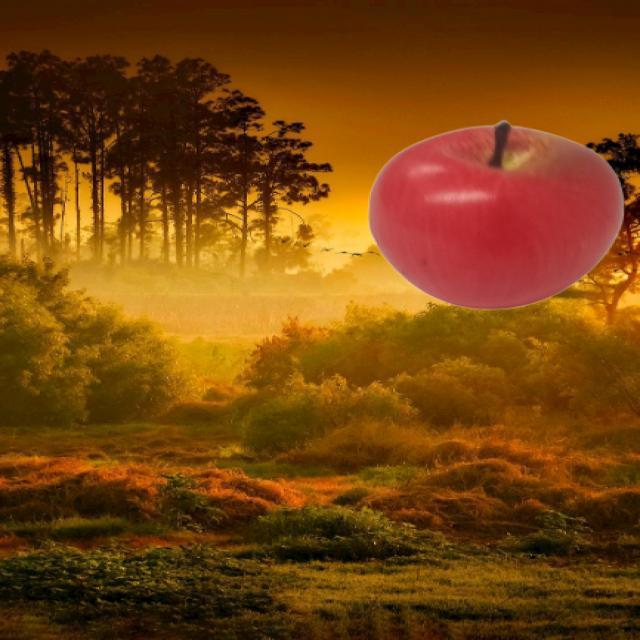apple: (368, 121, 626, 310)
